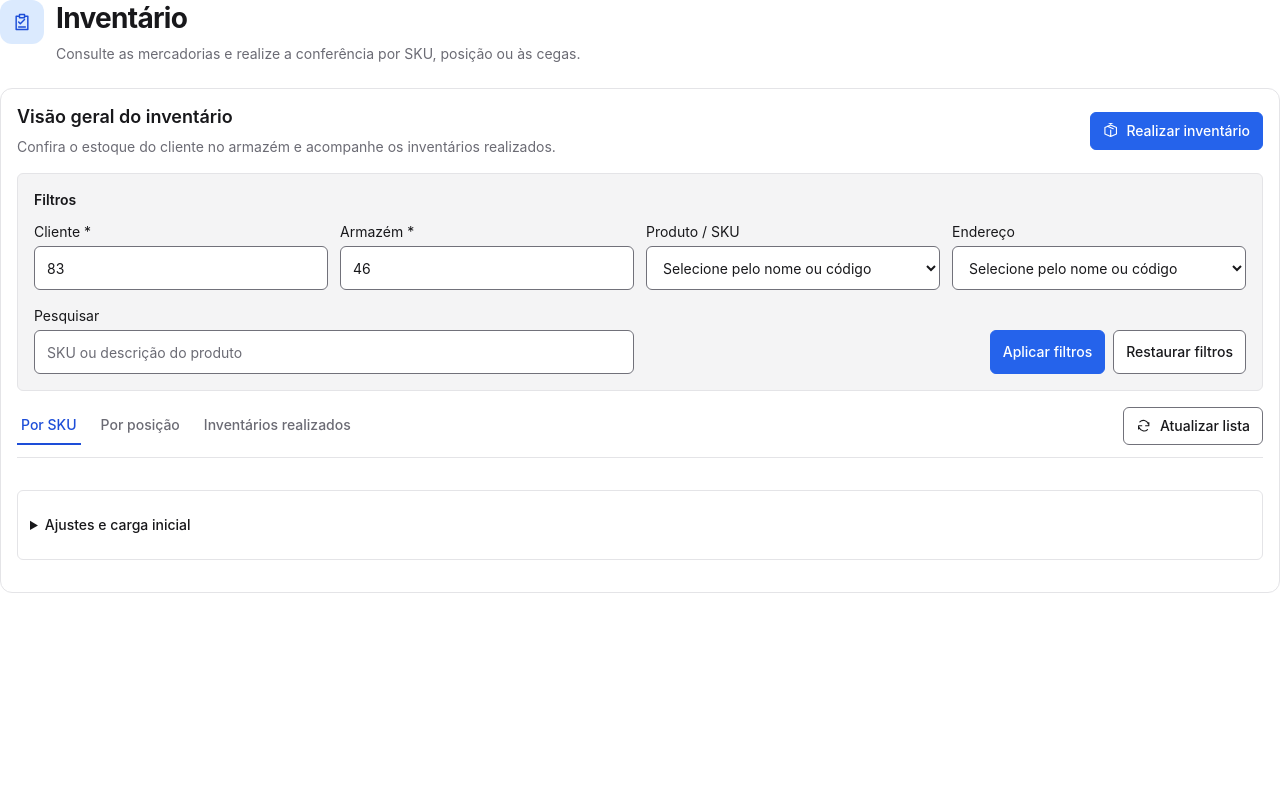
it: exige seleção em Por posição antes de iniciar
Click the button "Realizar inventário".
click(1176, 131)  # box [1090, 112, 1263, 150]
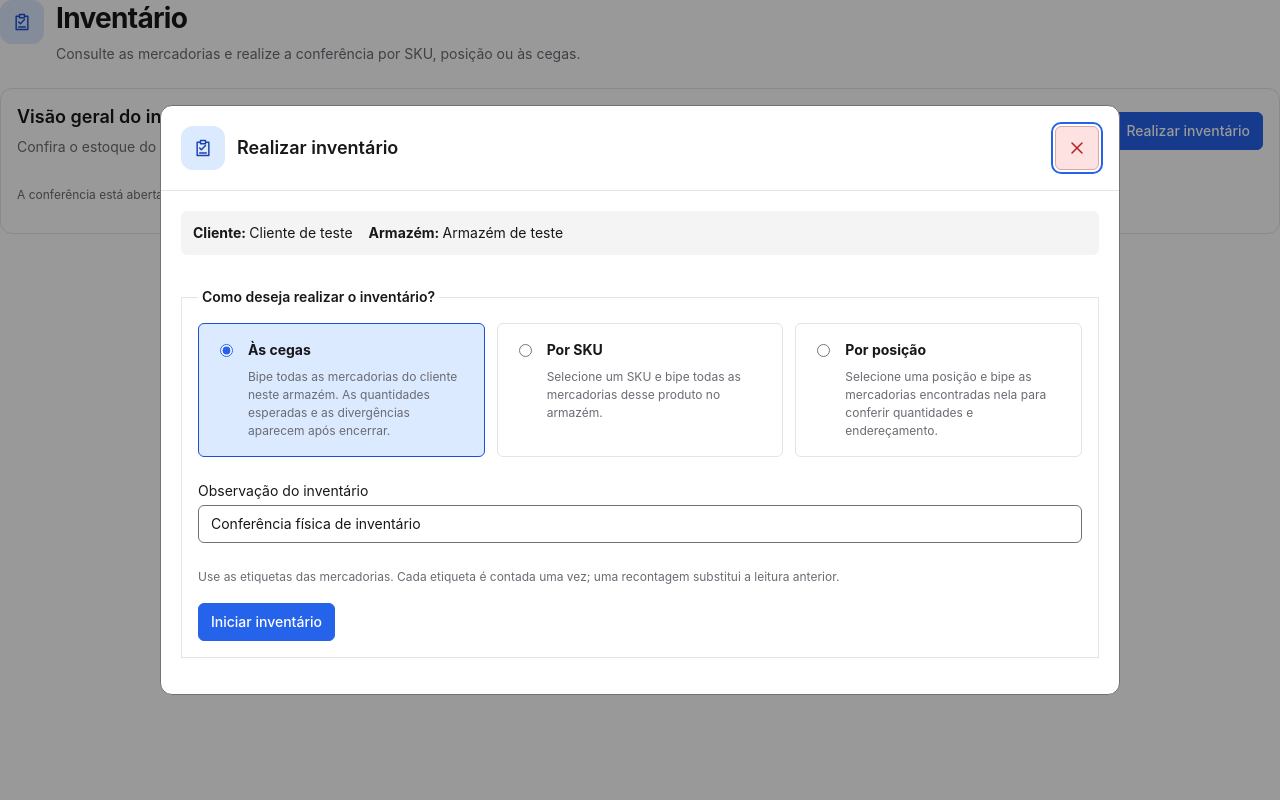
Click the radio button labelled "Por posição".
click(824, 350)  # box [817, 344, 830, 357]
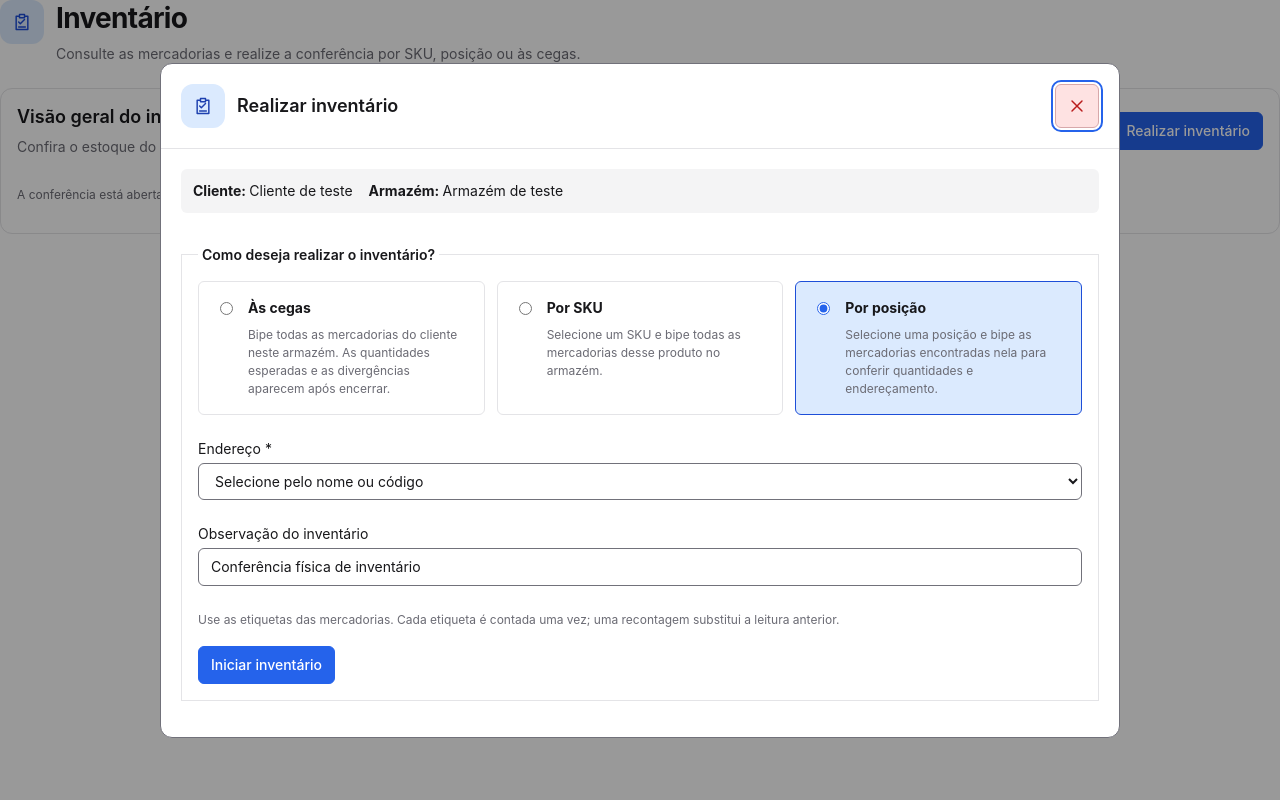
Check: the text "Endereço *" is shown, box [198, 440, 272, 456]
Submit the form named "Iniciar inventário", box [181, 228, 1099, 716]
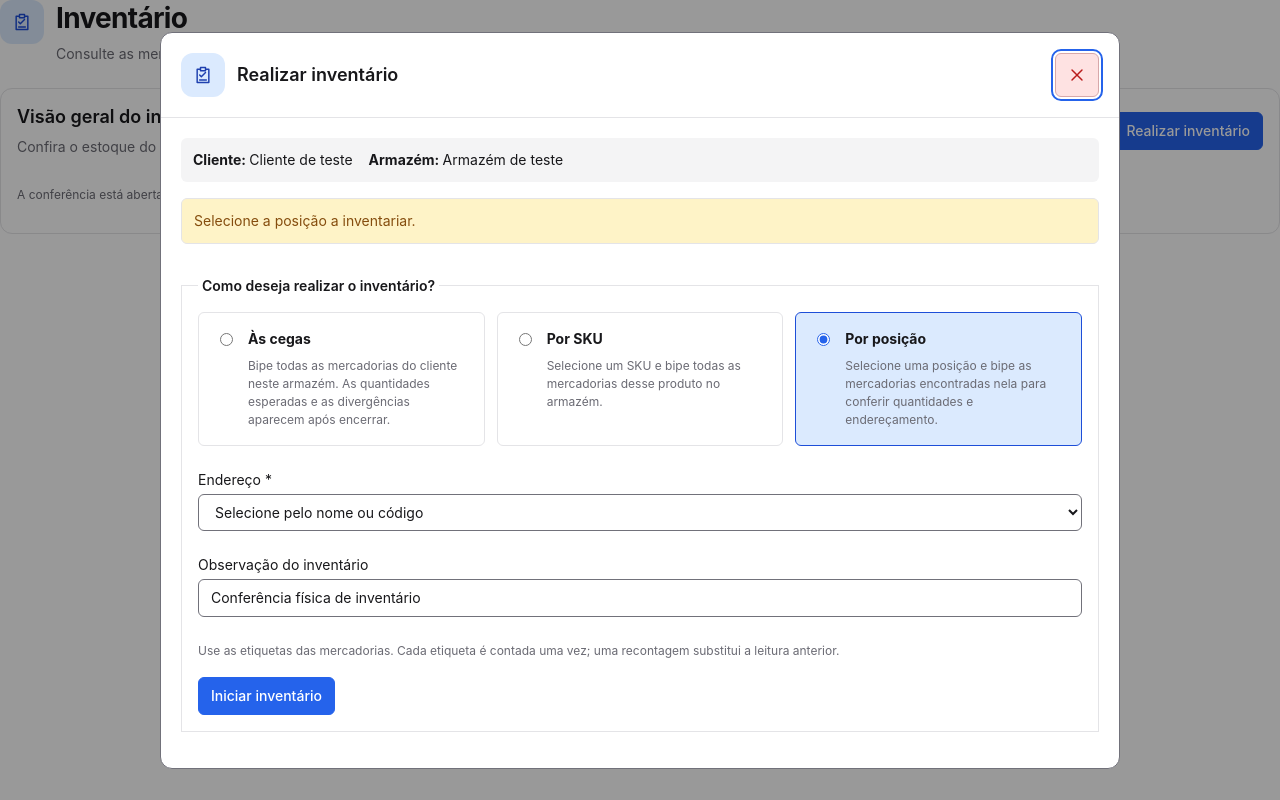
Check: the message shows "posição", box [194, 212, 416, 228]
